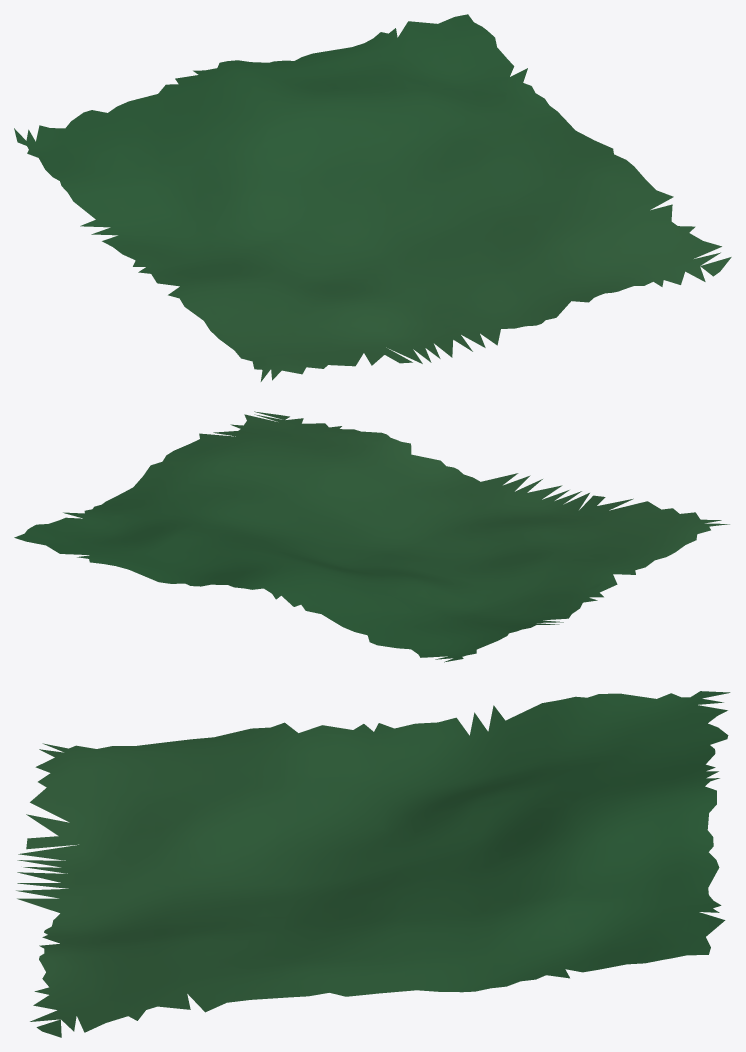
The model's file is payo_land_x2_y6.glb.
3 renders of one model, top to bottom at view 1: azimuth 30°, elevation 25°; view 2: azimuth 150°, elevation 25°; view 3: azimuth 270°, elevation 25°, orthographic. The views are drawn at different scales.
Parts seen in each view (by area): view 1: payo_land_x2_y6; view 2: payo_land_x2_y6; view 3: payo_land_x2_y6.
Boxes of the visible parts, x1=… form: payo_land_x2_y6: x1=14, y1=14, x2=731, y2=381; payo_land_x2_y6: x1=14, y1=411, x2=729, y2=662; payo_land_x2_y6: x1=16, y1=691, x2=730, y2=1037.
Size of the model in its own units: 273 by 45.84 by 274.
